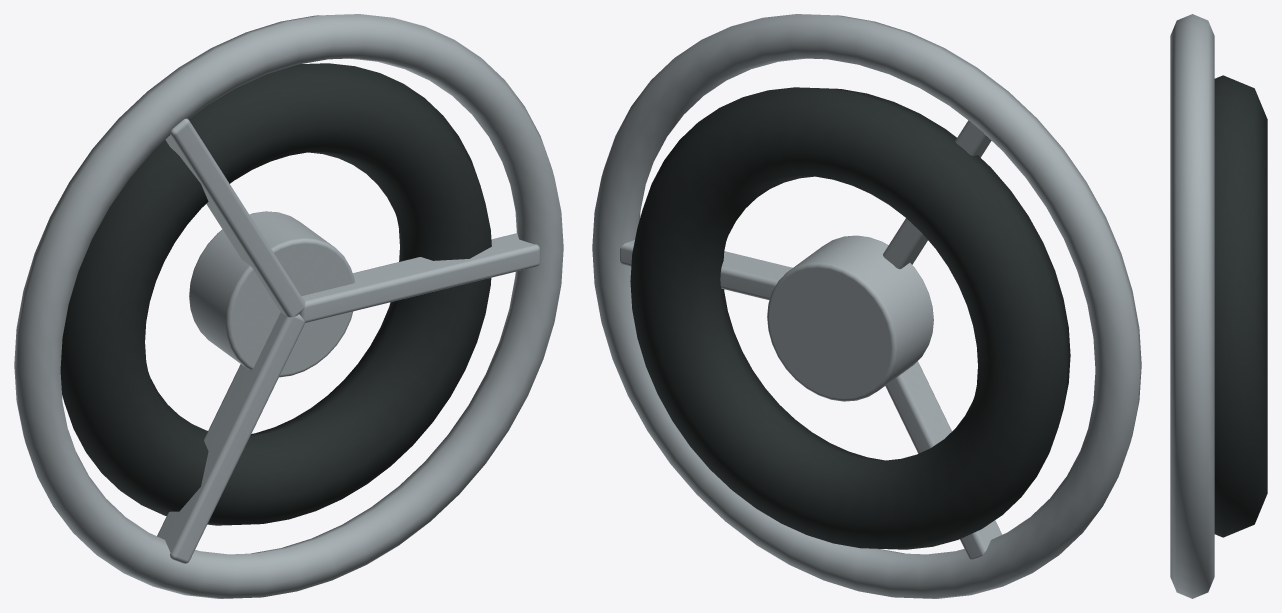
Rendered from loose_master.gltf.
3 views of the same model, side by side, from view 1: azimuth 30°, elevation 25°; view 2: azimuth 150°, elevation 25°; view 3: azimuth 270°, elevation 25° (orthographic). The views are drawn at different scales.
Visible parts, largest first — view 1: Wound magnetic tape, Open reel outer ring, Tape reel hub, Reel spoke.002, Reel spoke, Reel spoke.001; view 2: Wound magnetic tape, Open reel outer ring, Tape reel hub, Reel spoke.002, Reel spoke, Reel spoke.001; view 3: Open reel outer ring, Wound magnetic tape.
Boxes of the visible parts, box(x1,y1,x2,y2) form: Wound magnetic tape: box(60, 63, 491, 525); Open reel outer ring: box(14, 14, 563, 598); Tape reel hub: box(189, 211, 354, 377); Reel spoke.002: box(157, 312, 305, 563); Reel spoke: box(299, 233, 540, 322); Reel spoke.001: box(165, 118, 305, 317); Wound magnetic tape: box(630, 87, 1070, 549); Open reel outer ring: box(592, 14, 1141, 598); Tape reel hub: box(767, 235, 933, 401); Reel spoke.002: box(885, 361, 1002, 559); Reel spoke: box(620, 240, 792, 300); Reel spoke.001: box(883, 120, 991, 268); Open reel outer ring: box(1170, 14, 1214, 598); Wound magnetic tape: box(1214, 75, 1267, 537).
Bounding box in the file's own units: 0.21 × 0.21 × 0.035.
2 materials, 2 textured.
